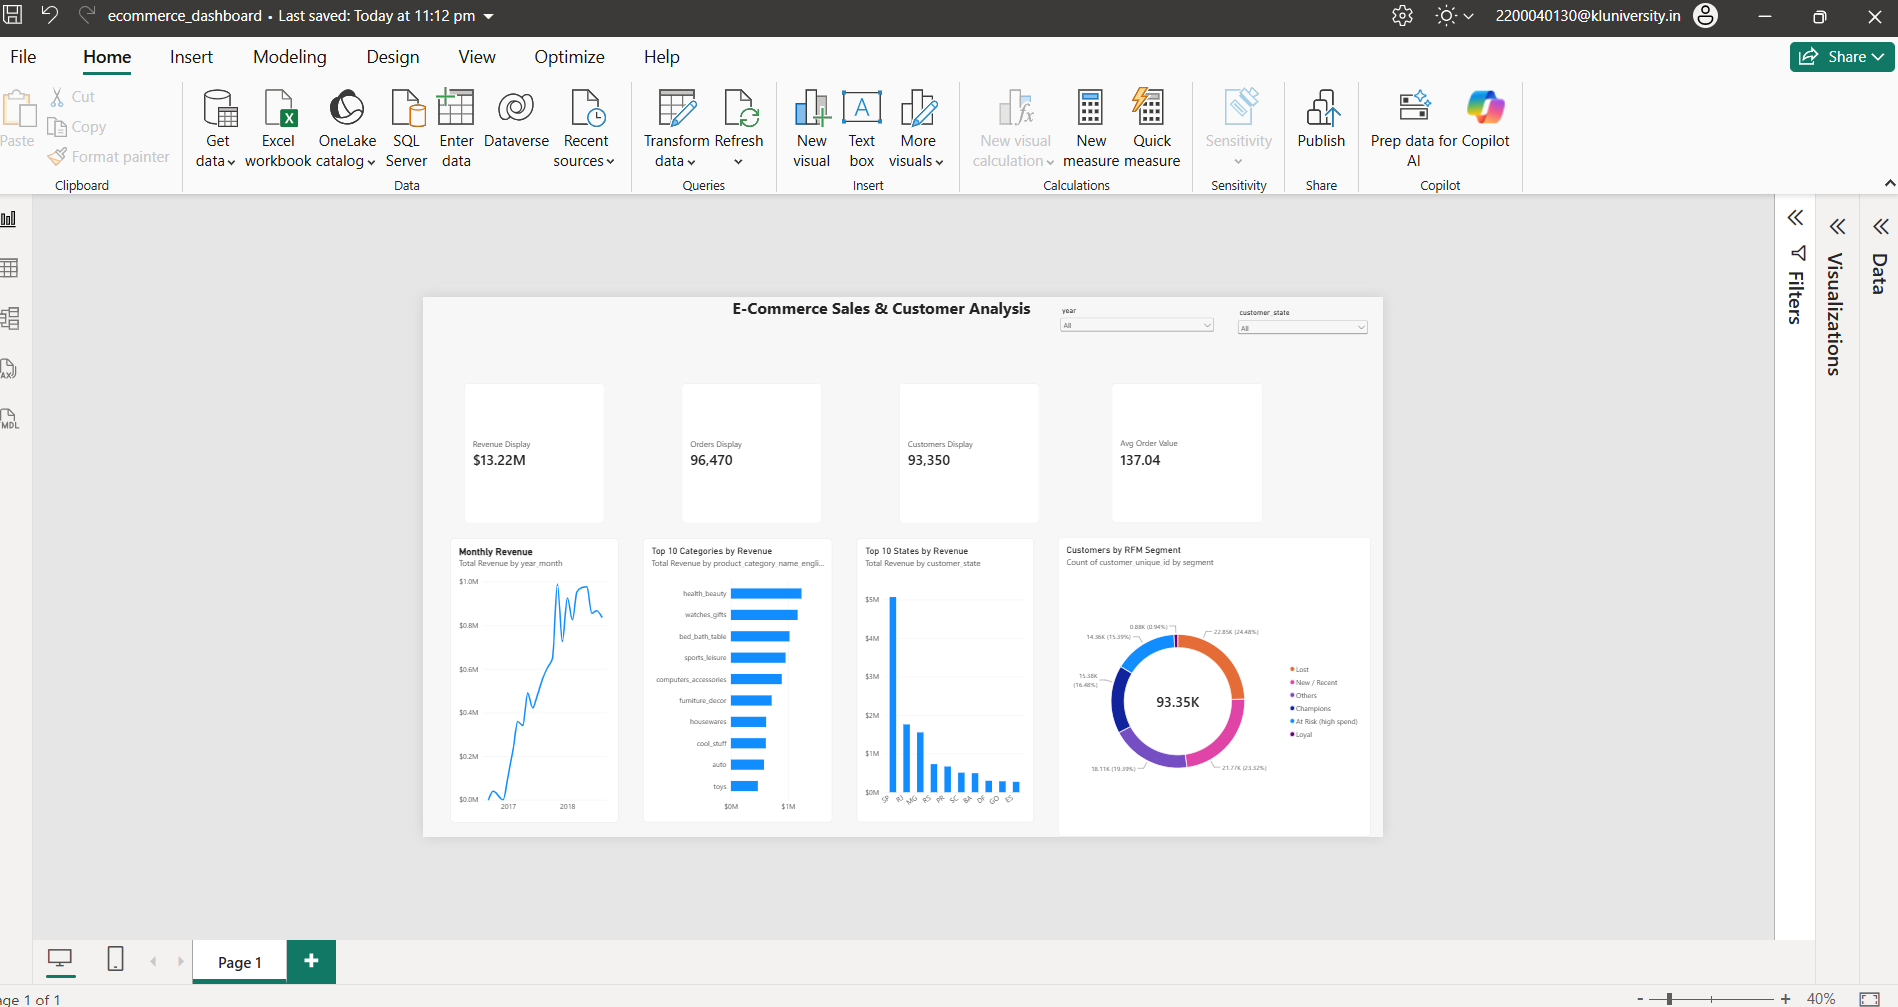

This screenshot's page, from the dashboard's own definition file:
{"tool":"powerbi","page":{"name":"Page 1","canvas":[1920,1080],"ordinal":0},"visuals":[{"type":"cardVisual","fields":{"Data":["master_data.Revenue Display"]},"box":[82.3,172.9,280,280],"z":0},{"type":"cardVisual","fields":{"Data":["master_data.Orders Display"]},"box":[517.7,172.9,280,280],"z":1},{"type":"cardVisual","fields":{"Data":["master_data.Customers Display"]},"box":[953,172.9,280,280],"z":2},{"type":"cardVisual","fields":{"Data":["master_data.Avg Order Value"]},"box":[1377,172.9,302.6,279.9],"z":3},{"type":"lineChart","title":"Monthly Revenue","fields":{"Category":["master_data.year_month"],"Y":["master_data.Total Revenue"]},"box":[55.7,481.4,335.7,568.6],"z":4},{"type":"clusteredBarChart","title":"Top 10 Categories by Revenue","fields":{"Category":["master_data.product_category_name_english"],"Y":["master_data.Total Revenue"]},"box":[440,481.4,378.7,568.1],"z":5},{"type":"clusteredColumnChart","title":"Top 10 States by Revenue","fields":{"Category":["master_data.customer_state"],"Y":["master_data.Total Revenue"]},"box":[867.4,481.4,354,568.1],"z":6},{"type":"donutChart","title":"Customers by RFM Segment","fields":{"Category":["rfm_segments.segment"],"Y":["Count(rfm_segments.customer_unique_id)"]},"box":[1270,481,625.7,599],"z":7},{"type":"textbox","box":[561.9,0,708.1,65.9],"z":9},{"type":"slicer","fields":{"Values":["master_data.year"]},"box":[1270,16.5,317,115.3],"z":10},{"type":"slicer","fields":{"Values":["master_data.customer_state"]},"box":[1626.1,22.6,269.6,88.5],"z":11}]}

Visuals, with their boxes on the page's 1920x1080 design canvas (x1, y1, x2, y2). These are canvas units, not pixel positions in the 1898x1007 screenshot, which may show the page scaled, cropped or inside an application window:
cardVisual - master_data.Revenue Display: (x1=82, y1=173, x2=362, y2=453)
cardVisual - master_data.Orders Display: (x1=518, y1=173, x2=798, y2=453)
cardVisual - master_data.Customers Display: (x1=953, y1=173, x2=1233, y2=453)
cardVisual - master_data.Avg Order Value: (x1=1377, y1=173, x2=1680, y2=453)
"Monthly Revenue" lineChart: (x1=56, y1=481, x2=391, y2=1050)
"Top 10 Categories by Revenue" clusteredBarChart: (x1=440, y1=481, x2=819, y2=1050)
"Top 10 States by Revenue" clusteredColumnChart: (x1=867, y1=481, x2=1221, y2=1050)
"Customers by RFM Segment" donutChart: (x1=1270, y1=481, x2=1896, y2=1080)
textbox: (x1=562, y1=0, x2=1270, y2=66)
slicer - master_data.year: (x1=1270, y1=16, x2=1587, y2=132)
slicer - master_data.customer_state: (x1=1626, y1=23, x2=1896, y2=111)
